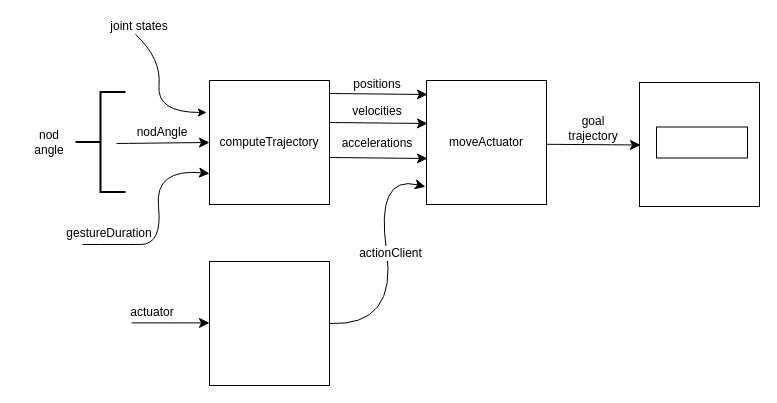
Some shapes in this 777 by 403 pixel diagram are drawn without their labels. The centre of each missing label's shape, as x and y in pixels:
"createClient" goes at (x=269, y=323).
"Head" goes at (x=702, y=142).
